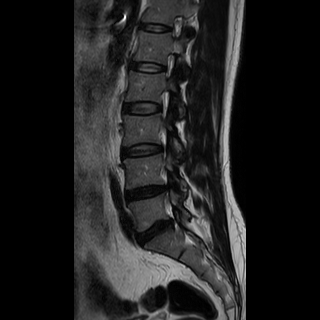LFS0: (156, 45, 181, 82)
